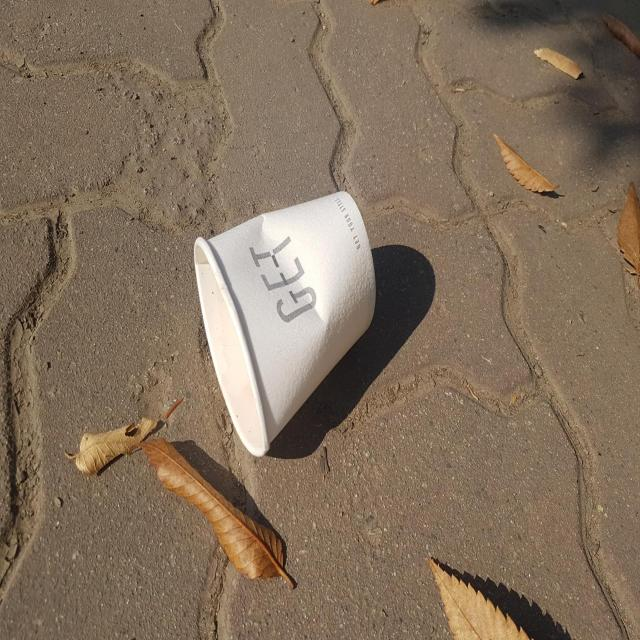paperpack: (194, 190, 376, 456)
